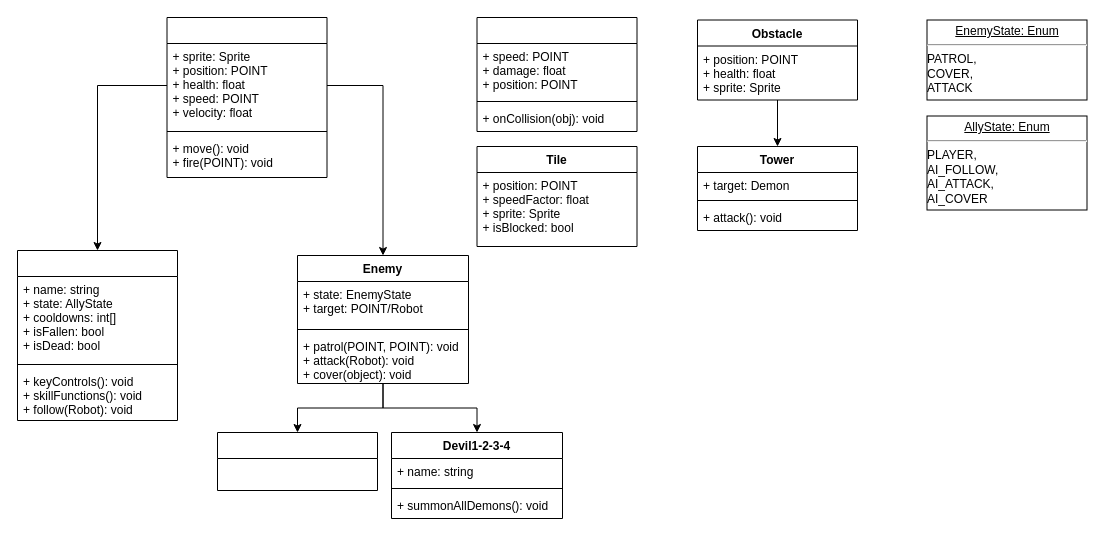
Image size: 1105x539. Some labels were removed from this diagram. Each missing label, with the box of its shape:
Bullet: (476, 16, 637, 132)
Character: (166, 16, 327, 178)
Demon: (216, 432, 378, 490)
Robot 1-2-3-4: (16, 250, 178, 420)
